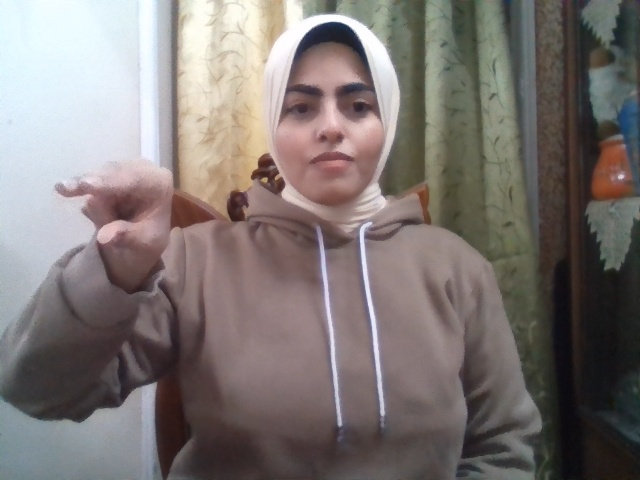no: (55, 156, 174, 264)
